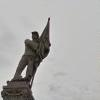Statue: (5, 17, 61, 84)
